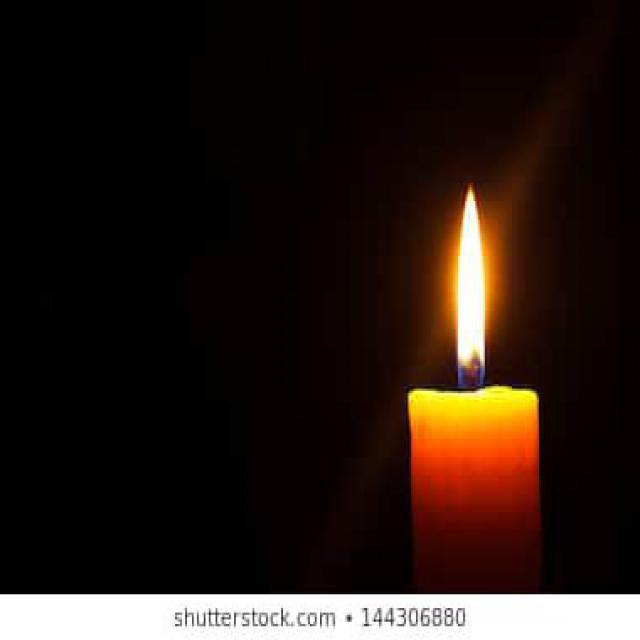Fire: (458, 184, 486, 390)
